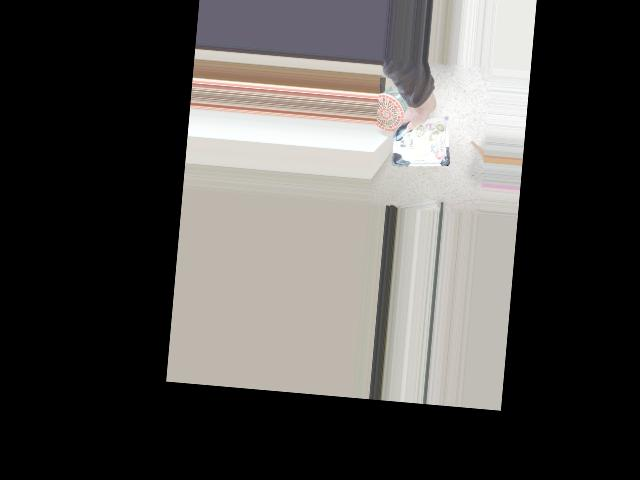cheese: (392, 94, 455, 158)
